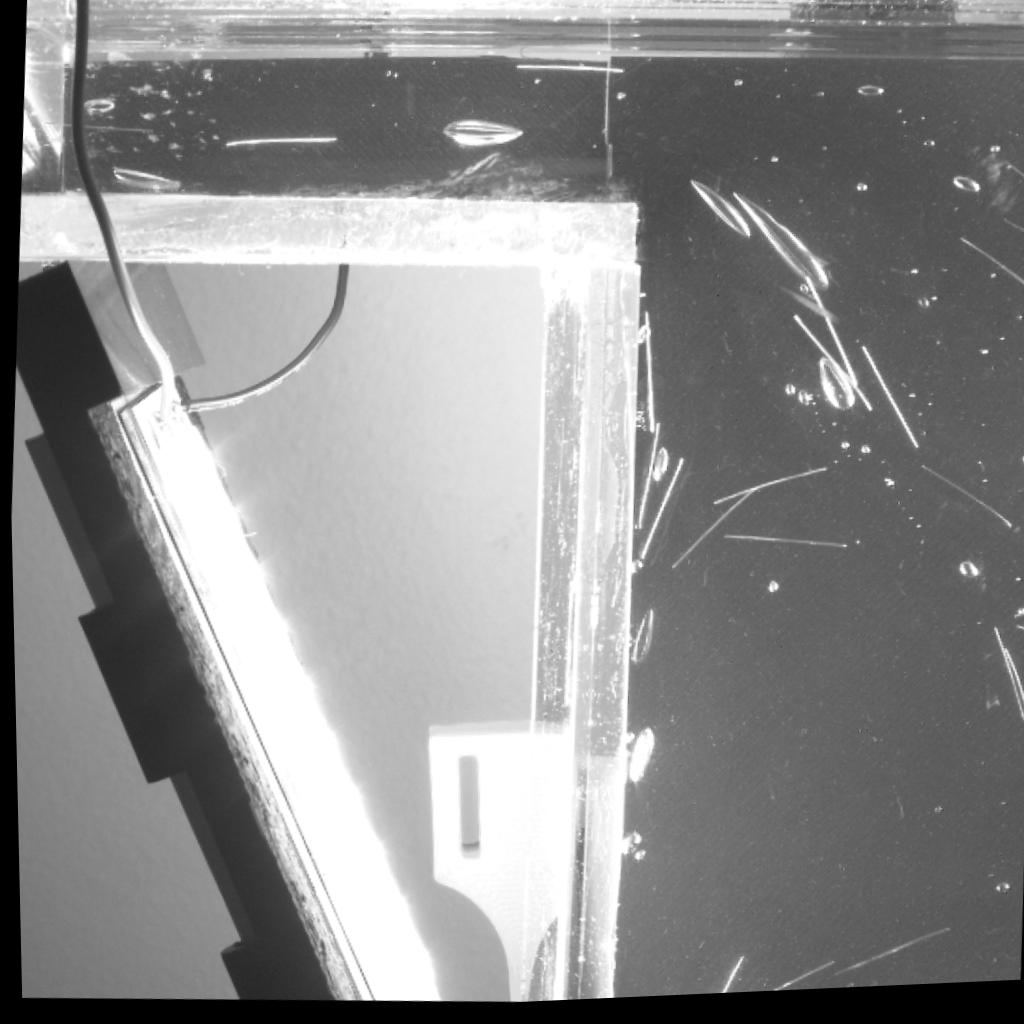Fiber: (788, 317, 874, 423), (821, 928, 955, 989), (665, 493, 755, 579), (854, 351, 923, 460), (799, 281, 860, 396), (918, 467, 1015, 538), (632, 461, 685, 567), (707, 468, 825, 515), (953, 242, 1024, 299), (629, 423, 662, 538), (986, 635, 1023, 732), (217, 129, 337, 153), (759, 963, 831, 998), (717, 540, 844, 557), (638, 314, 655, 438), (1000, 652, 1024, 730), (512, 67, 627, 81), (988, 153, 1024, 195), (714, 956, 744, 1000), (993, 218, 1024, 246), (1007, 626, 1024, 641)
